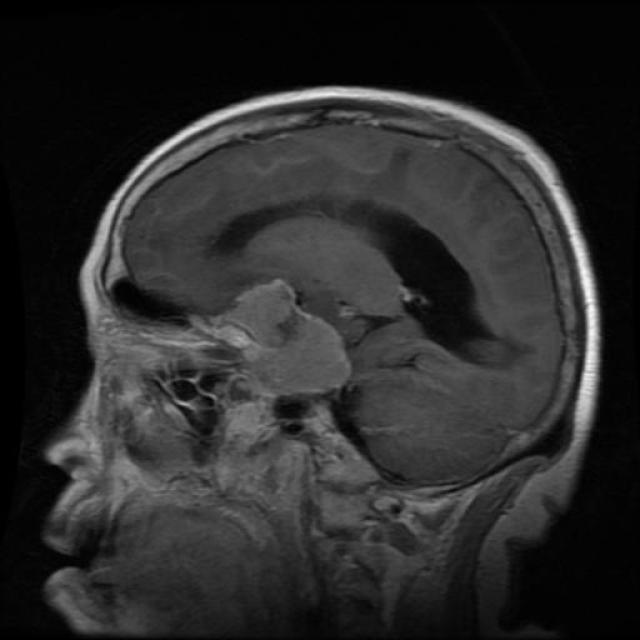meningioma: (215, 279, 351, 396)
